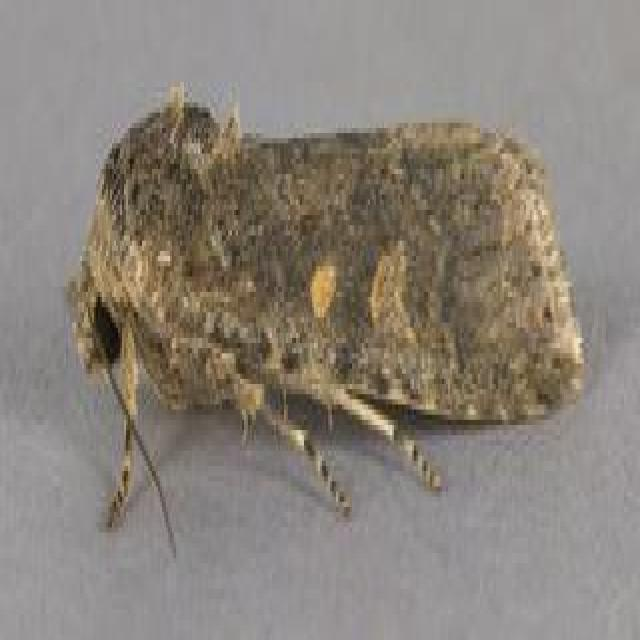BeetArmyWorm-Adult-: (57, 65, 588, 578)
